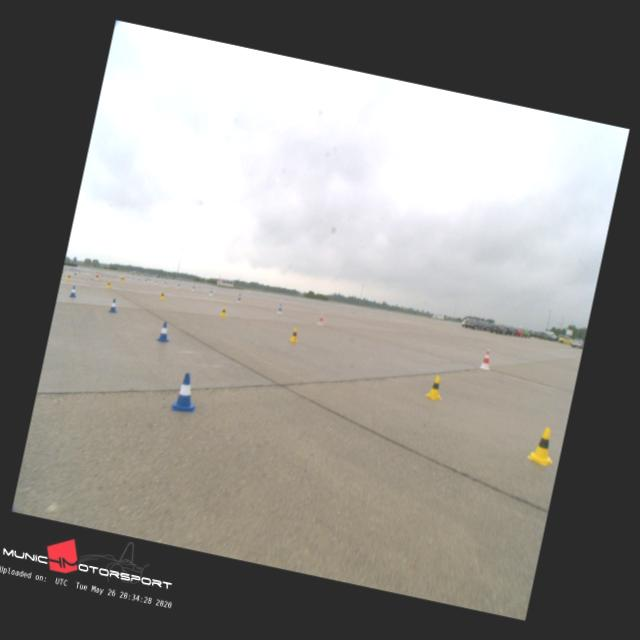blue_cone: (171, 371, 200, 413), (156, 321, 171, 342), (108, 298, 119, 312), (68, 285, 77, 297)
yellow_cone: (526, 425, 558, 467), (424, 374, 446, 401), (288, 327, 300, 342), (218, 305, 227, 317), (159, 290, 166, 300), (105, 280, 112, 288), (66, 272, 72, 280)
